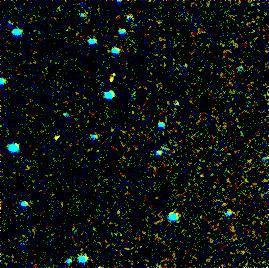star: (93, 65, 123, 95)
